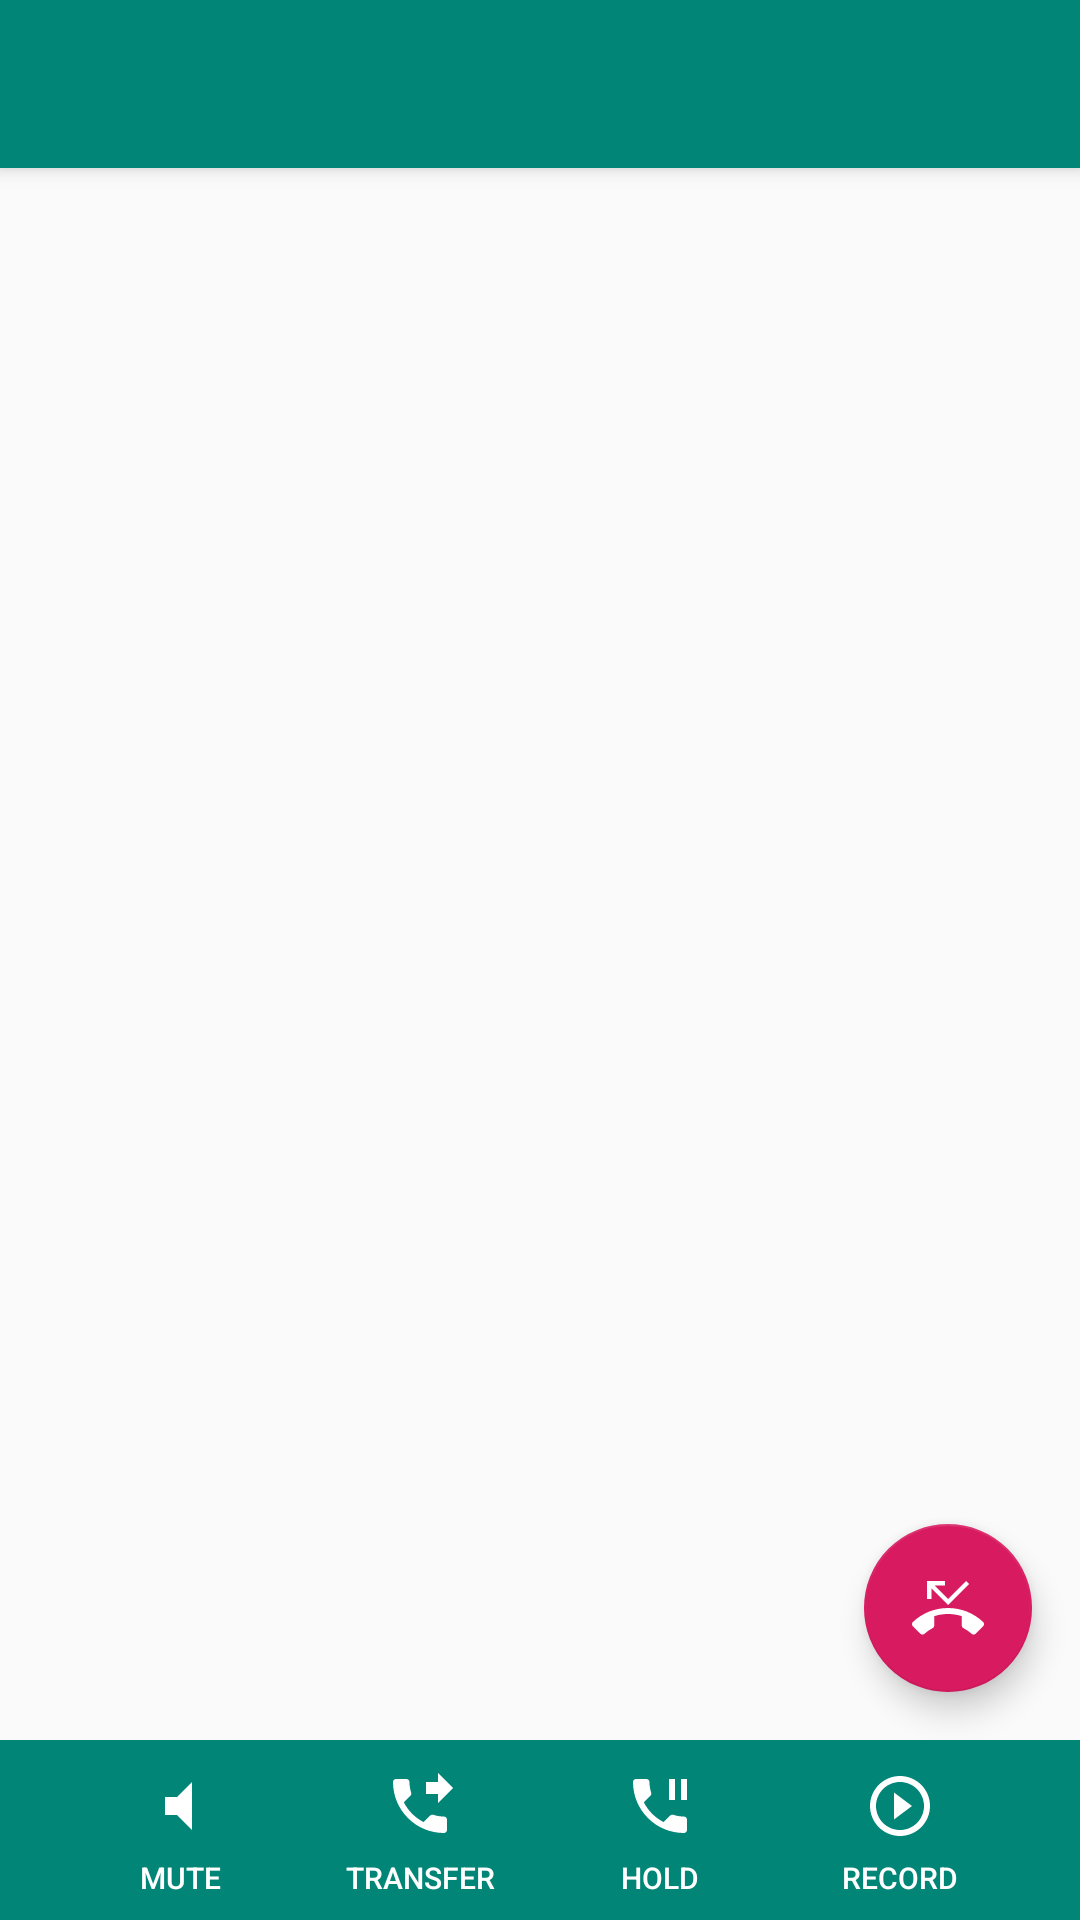

Icon click points for this 1080px×1920px phone screenshot, format point (x, y):
phone missed: point (948, 1608)
